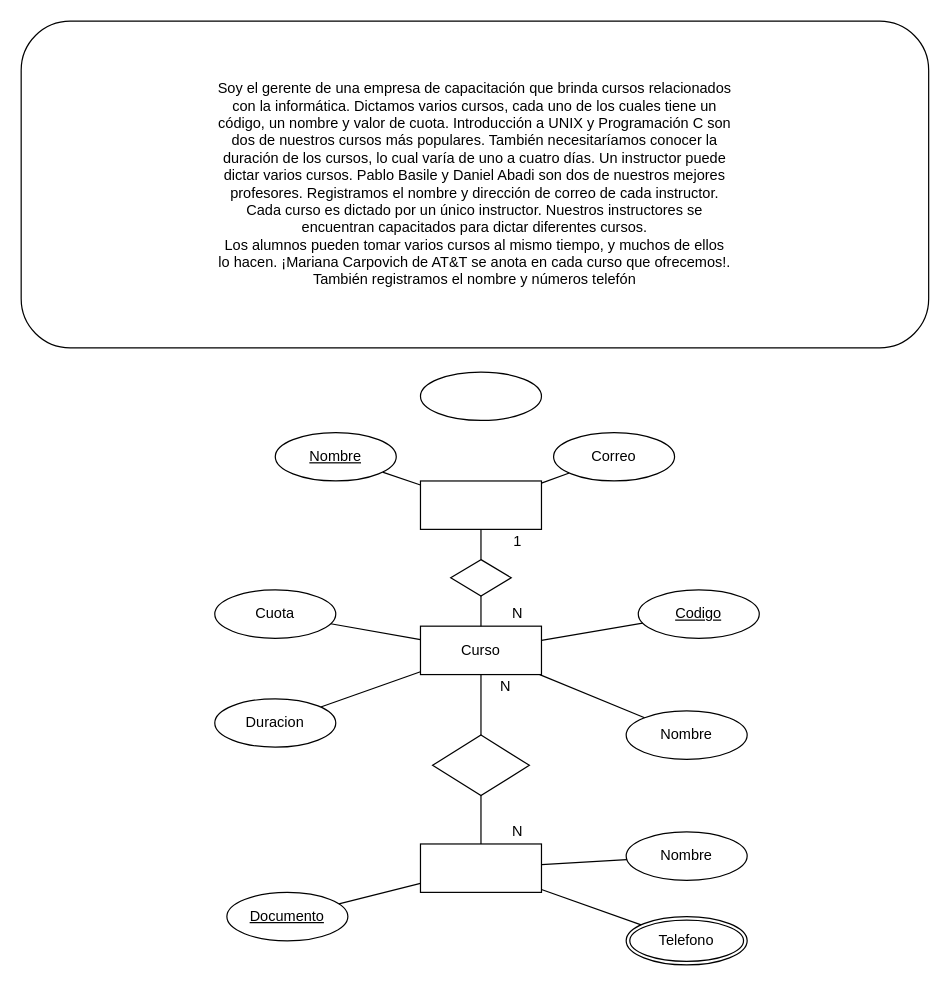
The diagram is 950 pixels wide and 986 high, and some of its shapes have lost their labels. The centre of each missing label's shape, as x and y in pixels:
Alumno: (x=480, y=867)
Cod: (x=480, y=395)
Cursan: (x=480, y=765)
Dicta: (x=480, y=577)
Instructor: (x=480, y=504)
